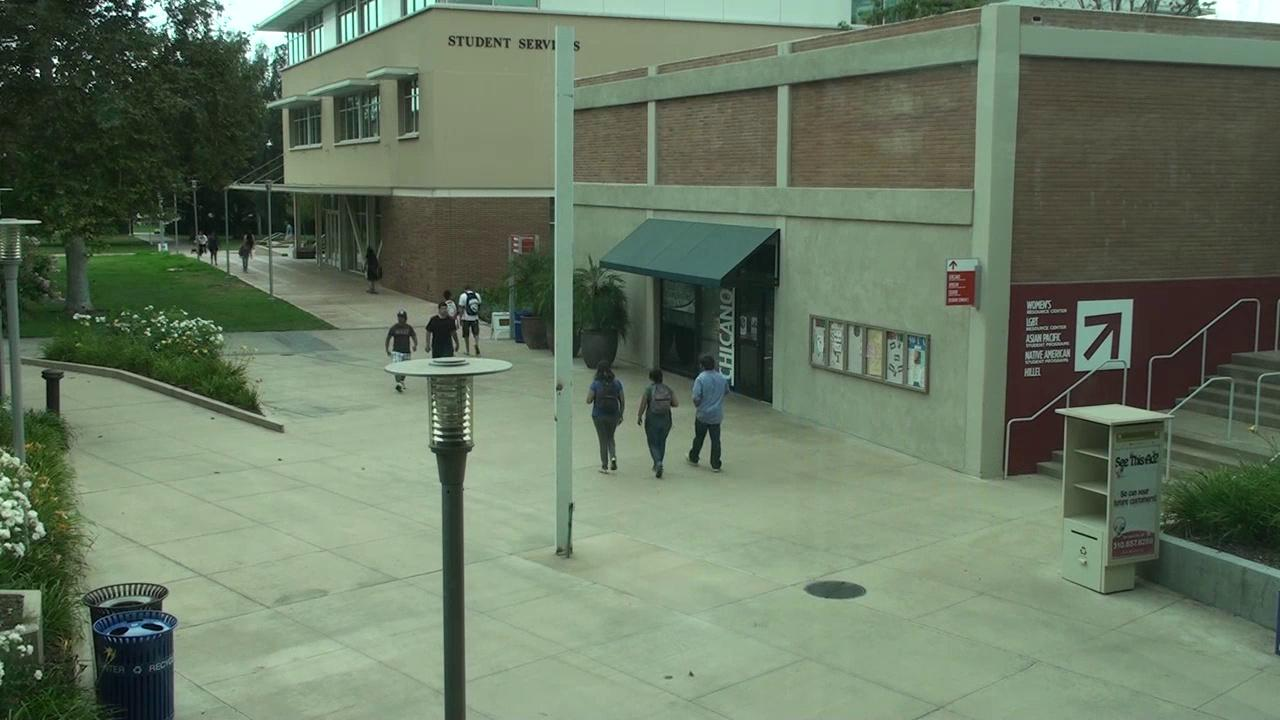person: (686, 355, 729, 471), (637, 369, 678, 478), (587, 361, 624, 473), (425, 303, 457, 357), (384, 311, 417, 360), (459, 282, 481, 355), (238, 234, 254, 272), (444, 291, 456, 325), (395, 375, 405, 392)
